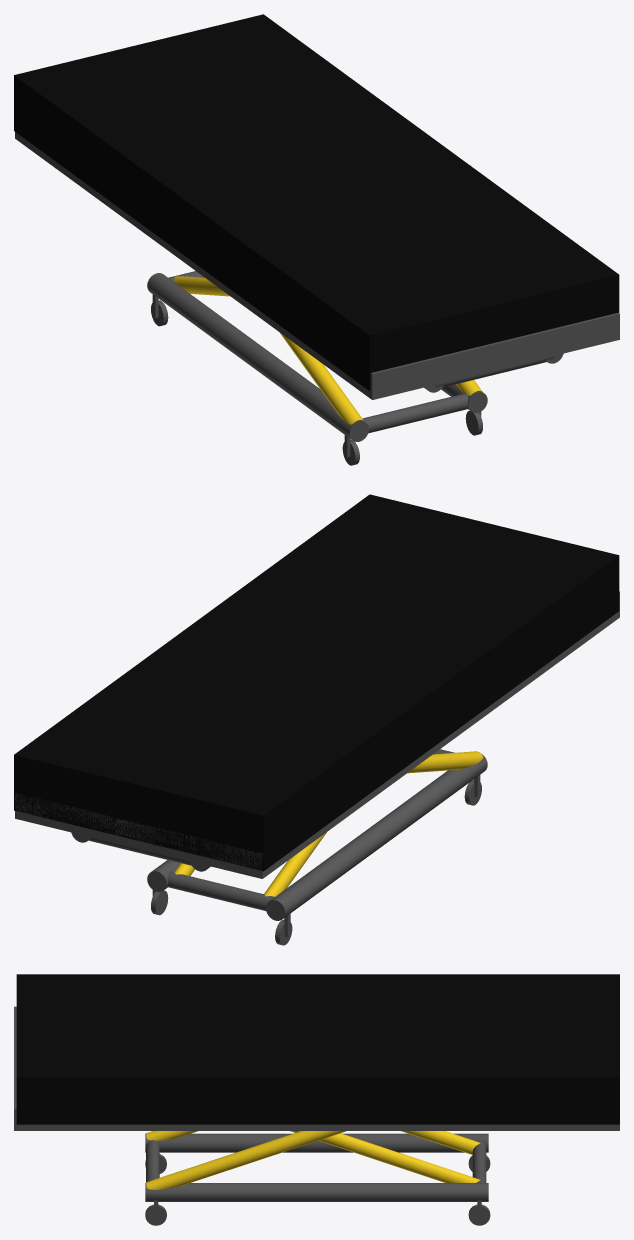
File: Gurney_model.fbx
The picture shows the model from 3 angles, top to bottom: view 1: azimuth 30°, elevation 25°; view 2: azimuth 150°, elevation 25°; view 3: azimuth 270°, elevation 25°; orthographic projection. The views are drawn at different scales.
Parts seen in each view (by area): view 1: Gurney; view 2: Gurney; view 3: Gurney.
Boxes of the visible parts, x1=… form: Gurney: x1=14, y1=14, x2=619, y2=465; Gurney: x1=14, y1=494, x2=619, y2=945; Gurney: x1=14, y1=974, x2=619, y2=1225.
Bounding box in the file's own units: 1.01 × 0.7889 × 2.5.
1 material, 1 textured.
